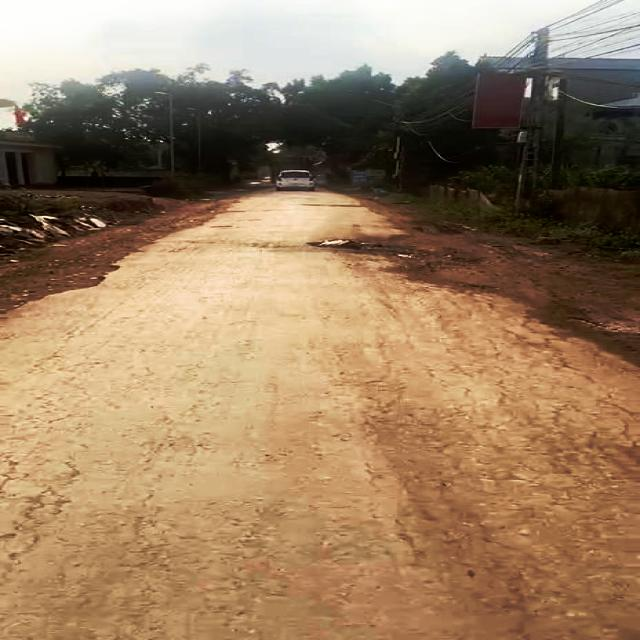pothole: (308, 238, 390, 251)
